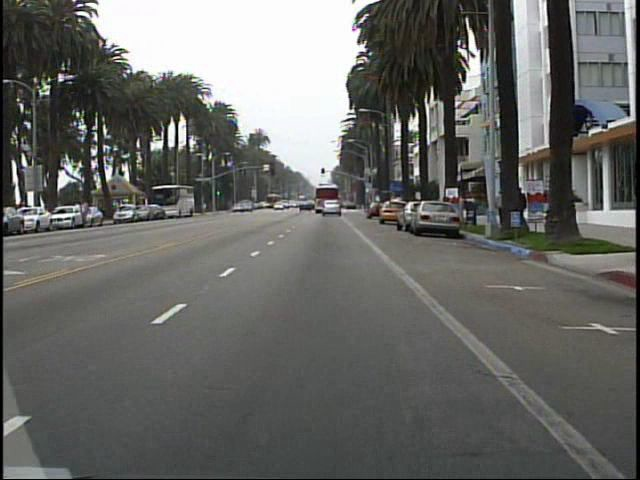person: (515, 182, 534, 231)
